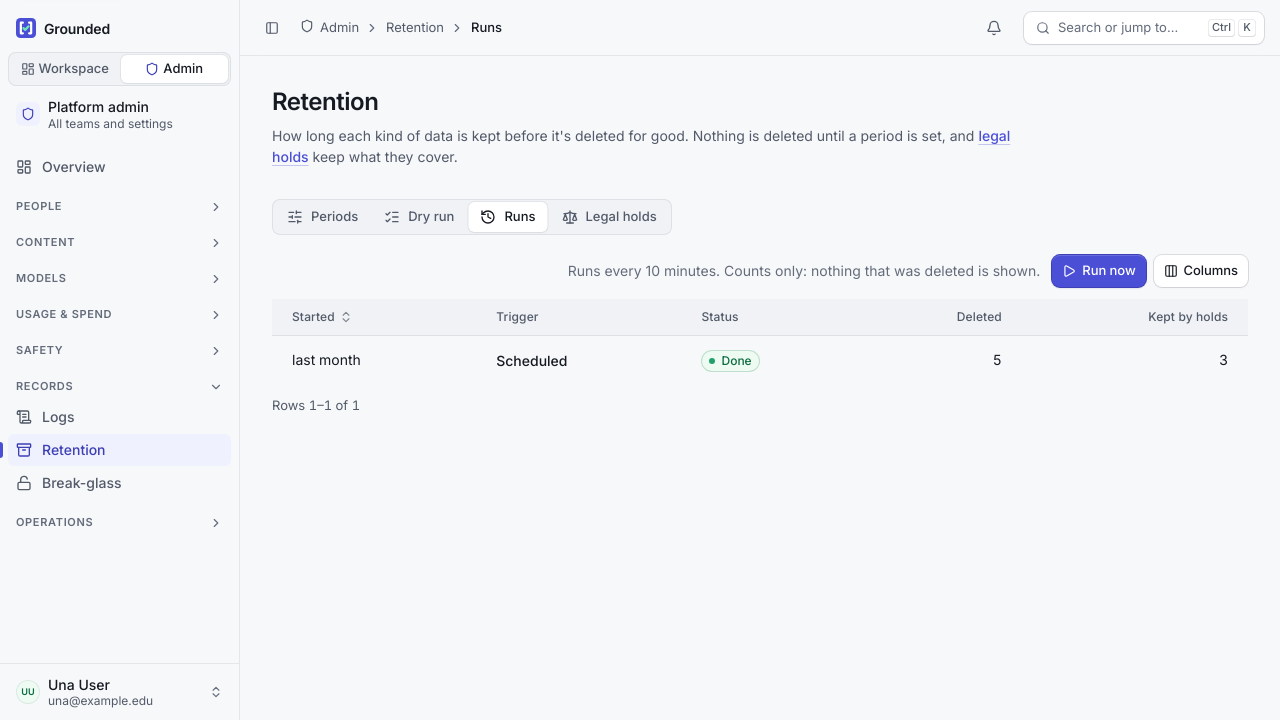
Test: Admin → Retention › lists runs and runs now after a confirmation; auditors can't run it
The width and height of the screenshot is (1280, 720).
Check: the text "Scheduled" is shown, box [496, 350, 568, 371]
Click the button "Run now" at {"x": 1099, "y": 271}, box [1052, 255, 1146, 287]
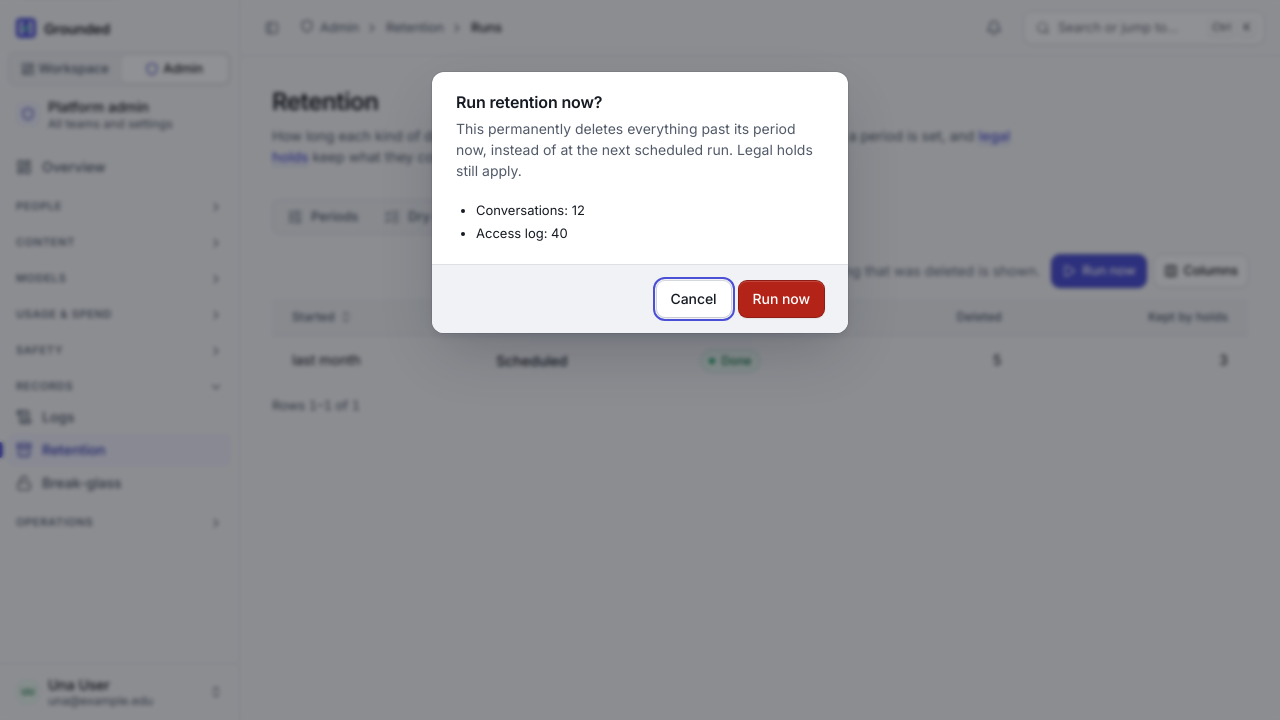
Check: the list item "Access log: 40" is shown, box [476, 225, 568, 241]
Click the button "Run now" at {"x": 781, "y": 299}, box [739, 281, 824, 317]
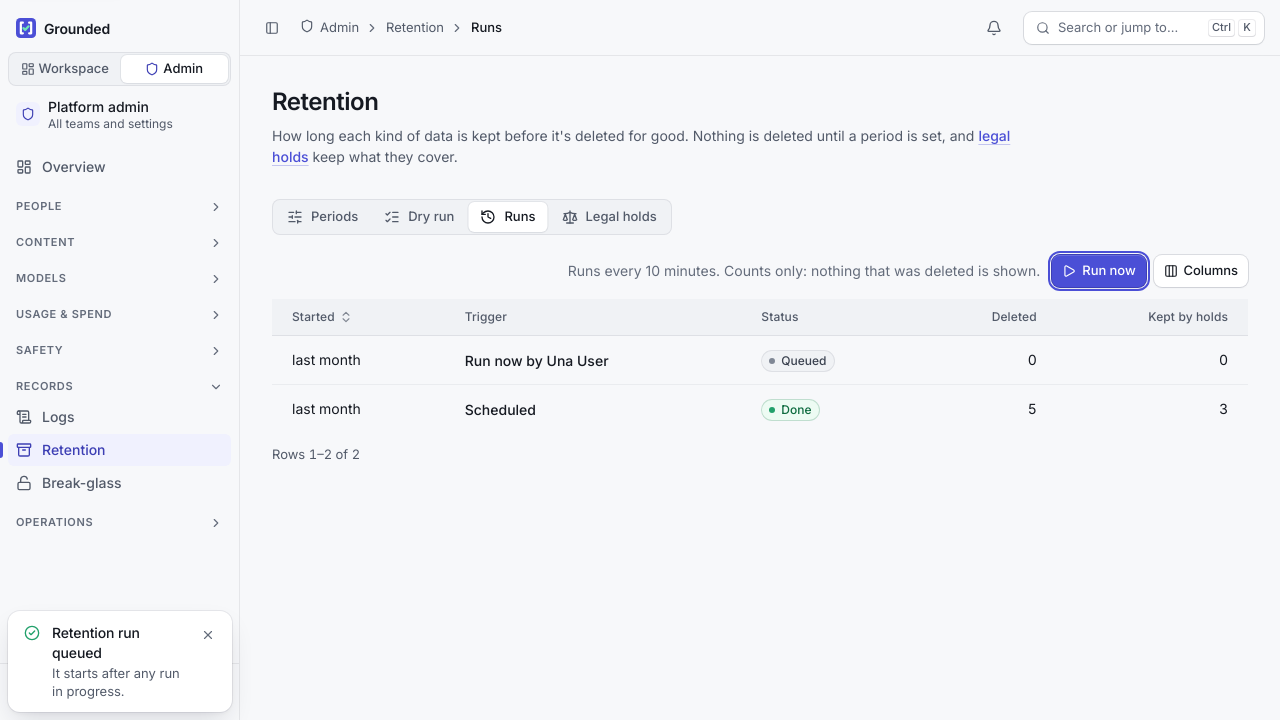
Check: the text "Queued" is shown, box [761, 350, 834, 372]
Check: the text "Run now by Una User" is shown, box [465, 350, 608, 371]
